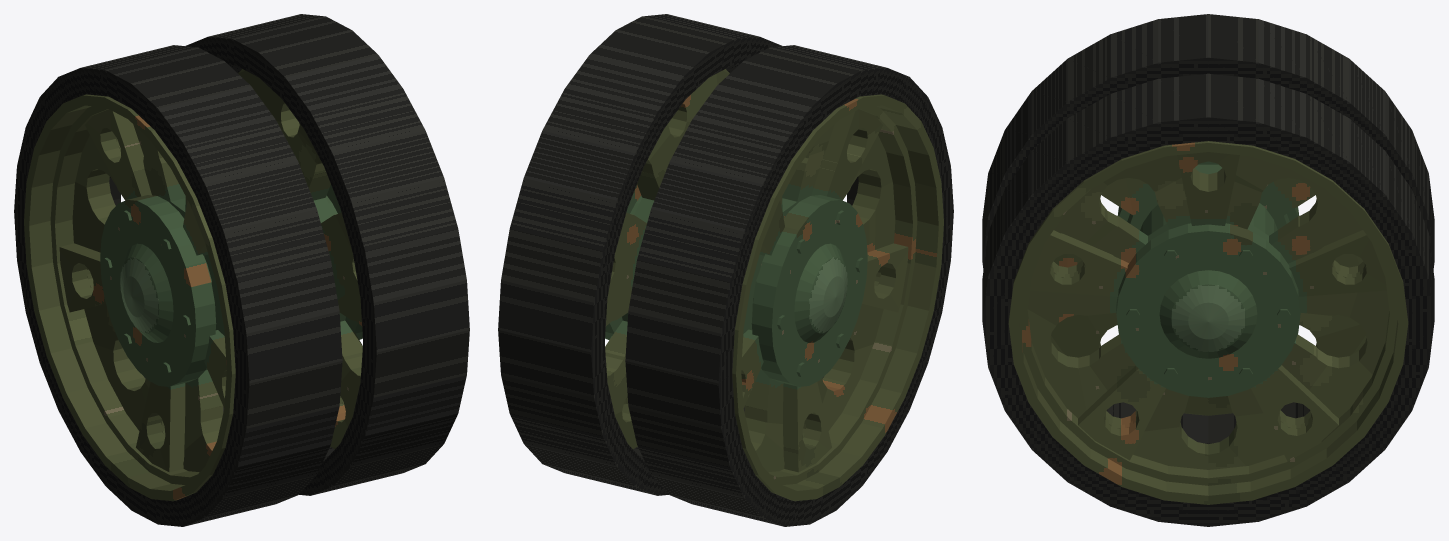
3 views of the same model, side by side, from view 1: azimuth 30°, elevation 25°; view 2: azimuth 150°, elevation 25°; view 3: azimuth 270°, elevation 25° (orthographic). The views are drawn at different scales.
Parts seen in each view (by area): view 1: tire_in, tire_out, rim_in, hub_in, disc_in, ribs_in, disc_out, rim_ring_in; view 2: tire_in, tire_out, rim_in, hub_in, disc_in, ribs_in, rim_ring_in, disc_out; view 3: tire_out, disc_out, tire_in, hub_out, ribs_out, rim_out, disc_in, rim_ring_out, barrel.
Part boxes in pixels (left/top/right/bottom): tire_in: left=14, top=45, right=342, bottom=526; tire_out: left=185, top=14, right=469, bottom=495; rim_in: left=24, top=94, right=235, bottom=501; hub_in: left=100, top=195, right=216, bottom=386; disc_in: left=72, top=124, right=224, bottom=472; ribs_in: left=59, top=109, right=226, bottom=472; disc_out: left=238, top=70, right=362, bottom=447; rim_ring_in: left=50, top=106, right=199, bottom=484; tire_in: left=625, top=45, right=953, bottom=526; tire_out: left=498, top=14, right=782, bottom=495; rim_in: left=732, top=94, right=943, bottom=501; hub_in: left=751, top=195, right=867, bottom=386; disc_in: left=743, top=124, right=895, bottom=472; ribs_in: left=741, top=109, right=908, bottom=472; rim_ring_in: left=768, top=106, right=917, bottom=484; disc_out: left=605, top=70, right=729, bottom=447; tire_out: left=982, top=73, right=1434, bottom=526; disc_out: left=1027, top=155, right=1389, bottom=469; tire_in: left=982, top=14, right=1434, bottom=443; hub_out: left=1116, top=223, right=1300, bottom=397; ribs_out: left=1030, top=152, right=1386, bottom=460; rim_out: left=1008, top=141, right=1408, bottom=504; disc_in: left=1051, top=164, right=1365, bottom=415; rim_ring_out: left=1019, top=189, right=1397, bottom=485; barrel: left=1140, top=203, right=1277, bottom=235.
Bounding box in the file's own units: 0.453 × 0.81 × 0.81.
1 material, 1 textured.
